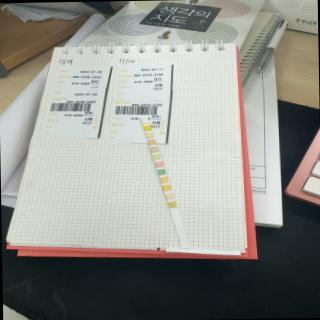mark: (168, 202, 176, 208), (165, 192, 173, 198), (160, 176, 168, 182), (150, 146, 158, 152), (163, 184, 170, 190), (158, 168, 165, 174), (156, 160, 162, 167), (148, 139, 155, 144), (146, 132, 153, 137), (144, 125, 151, 130), (142, 118, 148, 123), (153, 154, 160, 158)
